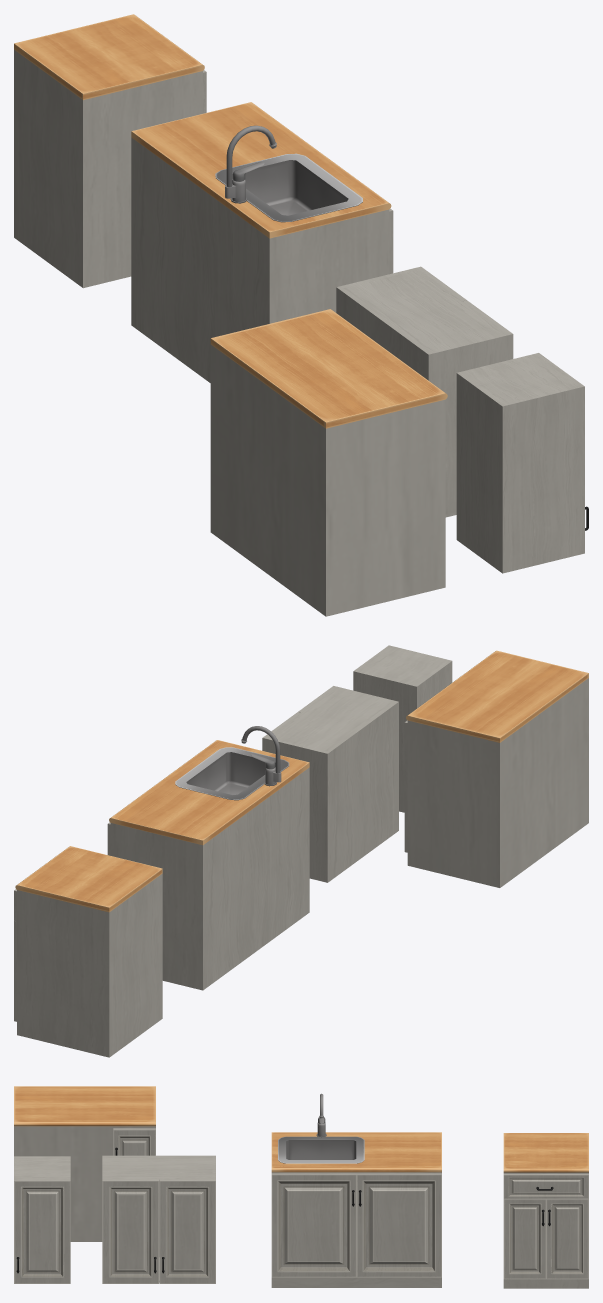
File: KitchenFurniturev2.fbx
3 views of the same model, one above another, from view 1: azimuth 30°, elevation 25°; view 2: azimuth 150°, elevation 25°; view 3: azimuth 270°, elevation 25° (orthographic). The views are drawn at different scales.
Parts seen in each view (by area): view 1: CornerCabinet, SinkCabinet, DrawertBase, SmallCabinet, CabinetUp, SmallCabinetDoor; view 2: CornerCabinet, SinkCabinet, DrawertBase, CabinetUp, SmallCabinet; view 3: CornerCabinet, SinkCabinet, SinkDoorLeft, SinkDoorRight, CabinetUpDoorRight, CabinetUpDoorLeft, SmallCabinetDoor, DrawertBase, CabinetDoorLeft, CabinetDoorRight, CabinetUp, Topdrawer (+1 smaller).
Boxes of the visible parts, x1,y1,x2,y2 form: CornerCabinet: [210, 309, 447, 616]; SinkCabinet: [131, 102, 391, 382]; DrawertBase: [14, 14, 204, 288]; SmallCabinet: [456, 354, 579, 573]; CabinetUp: [336, 268, 508, 517]; SmallCabinetDoor: [534, 353, 588, 554]; CornerCabinet: [404, 650, 588, 887]; SinkCabinet: [109, 726, 309, 990]; DrawertBase: [15, 846, 162, 1057]; CabinetUp: [266, 686, 398, 882]; SmallCabinet: [357, 646, 452, 812]; CornerCabinet: [14, 1086, 155, 1241]; SinkCabinet: [271, 1093, 441, 1287]; SinkDoorLeft: [271, 1173, 356, 1277]; SinkDoorRight: [356, 1173, 441, 1277]; CabinetUpDoorRight: [159, 1179, 215, 1283]; CabinetUpDoorLeft: [102, 1179, 158, 1283]; SmallCabinetDoor: [14, 1179, 70, 1283]; DrawertBase: [503, 1133, 588, 1288]; CabinetDoorLeft: [503, 1199, 546, 1279]; CabinetDoorRight: [546, 1199, 588, 1279]; CabinetUp: [102, 1155, 215, 1282]; Topdrawer: [503, 1173, 588, 1198].
Size of the model in its own units: 143 by 127 by 405.
Materials: 1 (1 with a texture image).
